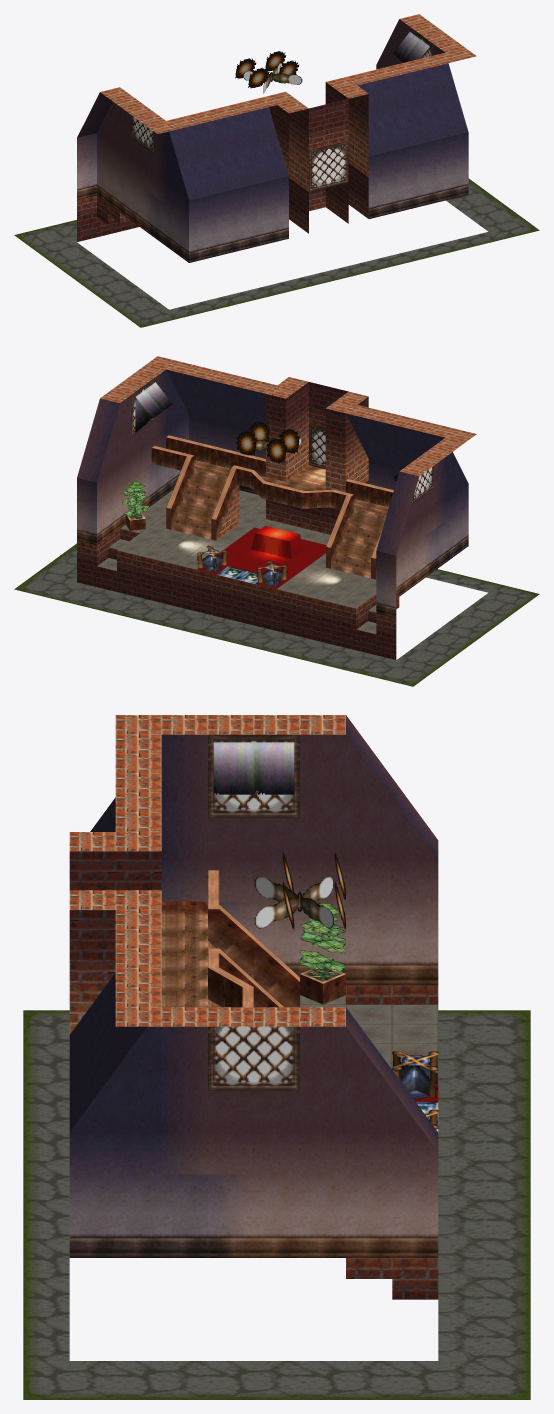
Rendered from catalog.obj.
3 renders of one model, top to bottom at view 1: azimuth 30°, elevation 25°; view 2: azimuth 150°, elevation 25°; view 3: azimuth 270°, elevation 25°, orthographic. The views are drawn at different scales.
Visible parts, largest first — view 1: cell_23_16, cell_17_9, cell_12_9, cell_9_9, cell_10_9, cell_11_9, cell_14_9, cell_18_9, cell_19_9, cell_20_9, cell_21_9, cell_22_9 (+29 smaller); view 2: cell_8_16, cell_23_16, cell_17_10, cell_14_10, cell_8_15, cell_8_13, cell_15_9, cell_8_12, cell_8_14, cell_23_11, cell_23_12, cell_17_16 (+64 smaller); view 3: cell_8_11, cell_8_12, cell_8_13, cell_8_14, cell_23_15, cell_8_10, cell_8_15, cell_23_13, cell_23_14, cell_23_12, cell_23_11, cell_23_16 (+118 smaller).
Part boxes in pixels (box(x1,y1,x2,y2)): cell_23_16: box(77, 110, 108, 241); cell_17_9: box(277, 100, 308, 233); cell_12_9: box(377, 107, 408, 214); cell_9_9: box(437, 92, 468, 199); cell_10_9: box(417, 97, 448, 204); cell_11_9: box(397, 102, 428, 209); cell_14_9: box(337, 85, 368, 223); cell_18_9: box(257, 136, 288, 243); cell_19_9: box(237, 141, 268, 248); cell_20_9: box(217, 146, 248, 253); cell_21_9: box(197, 151, 228, 257); cell_22_9: box(178, 156, 208, 262); cell_8_16: box(77, 438, 108, 586); cell_23_16: box(376, 511, 407, 659); cell_17_10: box(325, 400, 357, 534); cell_14_10: box(266, 385, 297, 523); cell_8_15: box(88, 398, 119, 536); cell_8_13: box(112, 381, 162, 509); cell_15_9: box(297, 382, 328, 478); cell_8_12: box(123, 373, 172, 508); cell_8_14: box(100, 390, 131, 527); cell_23_11: box(434, 437, 464, 570); cell_23_12: box(422, 446, 453, 579); cell_17_16: box(256, 560, 287, 630); cell_8_11: box(161, 1007, 207, 1257); cell_8_12: box(208, 1007, 253, 1257); cell_8_13: box(254, 1007, 299, 1257); cell_8_14: box(300, 1007, 345, 1257); cell_23_15: box(346, 715, 392, 985); cell_8_10: box(115, 1007, 161, 1257); cell_8_15: box(346, 1007, 392, 1257); cell_23_13: box(254, 715, 299, 976); cell_23_14: box(300, 715, 345, 973); cell_23_12: box(208, 715, 253, 935); cell_23_11: box(161, 715, 207, 901); cell_23_16: box(392, 778, 438, 985).
Bounding box in the file's own units: 0.3125 × 0.125 × 0.1719.
Materials: 9 (9 with a texture image).
